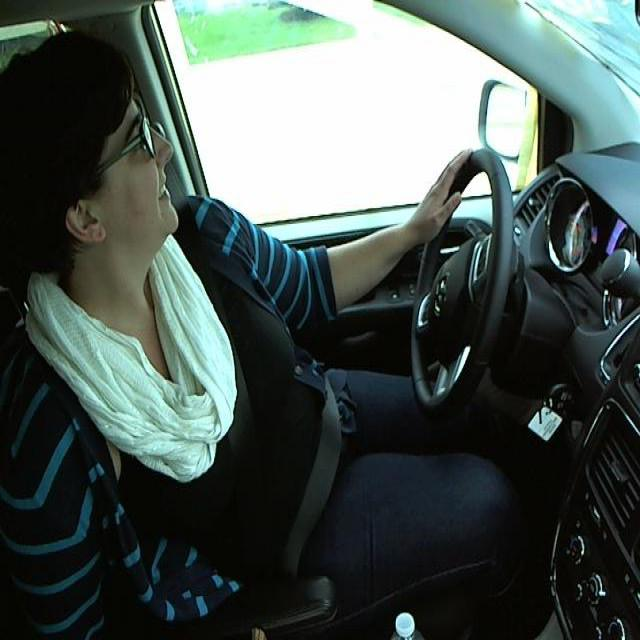seatbelt: (176, 256, 347, 587)
